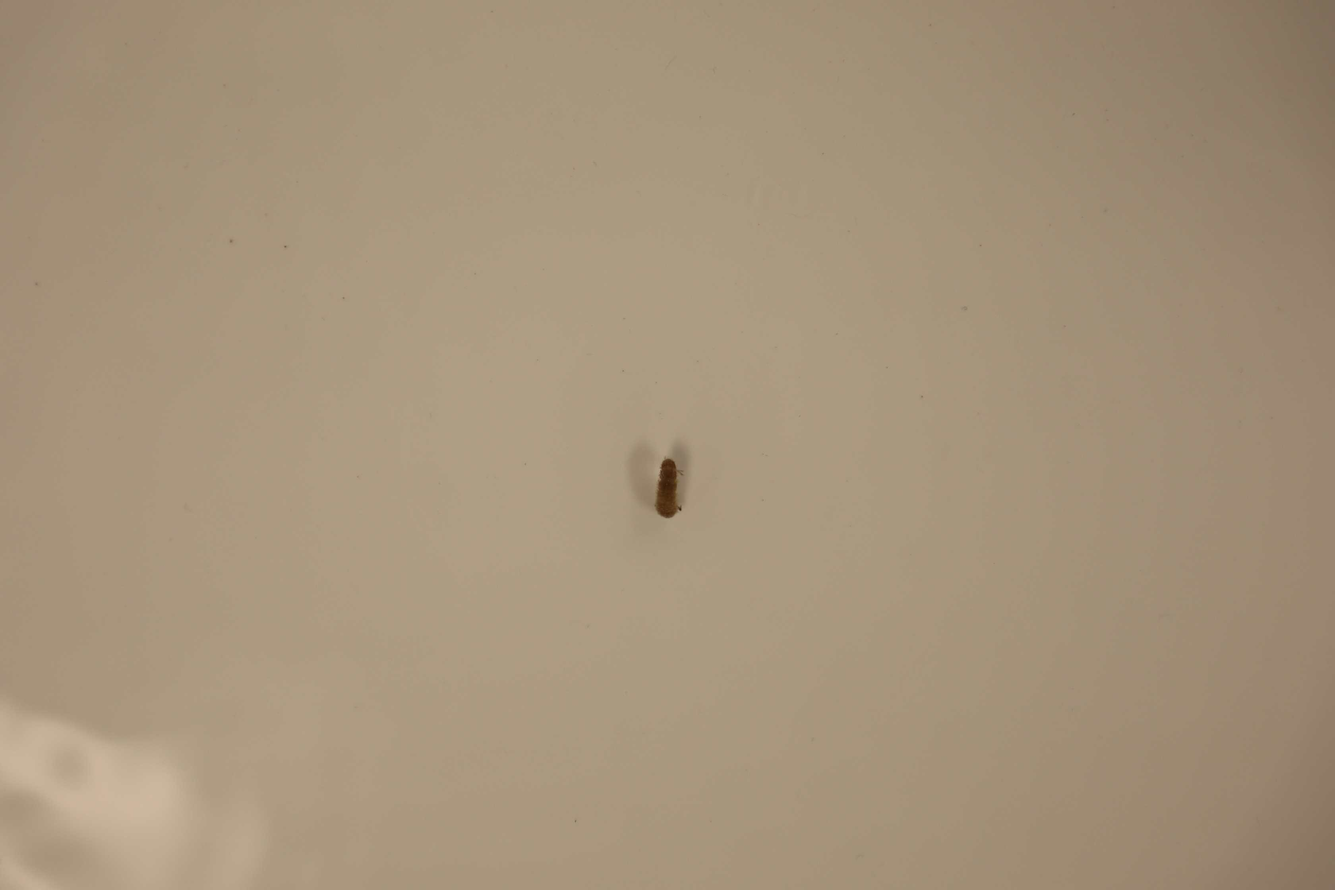Cadisfly: (651, 454, 689, 523)
